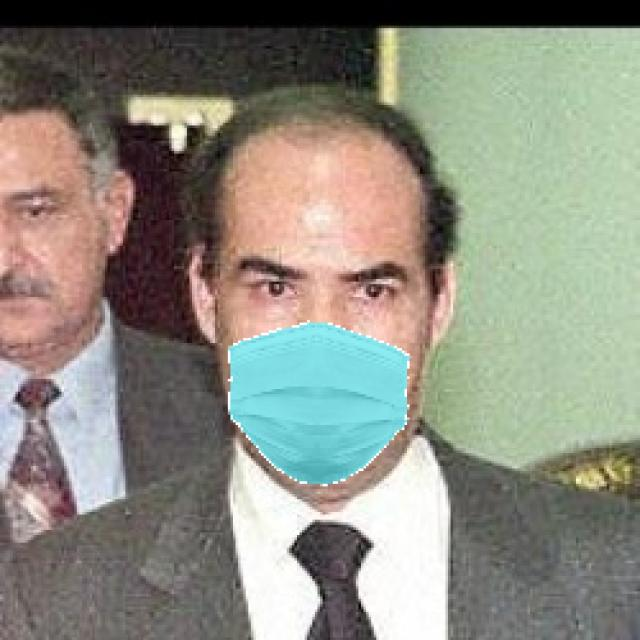mask: (230, 314, 415, 495)
